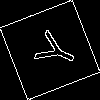Y: (25, 25, 81, 74)
